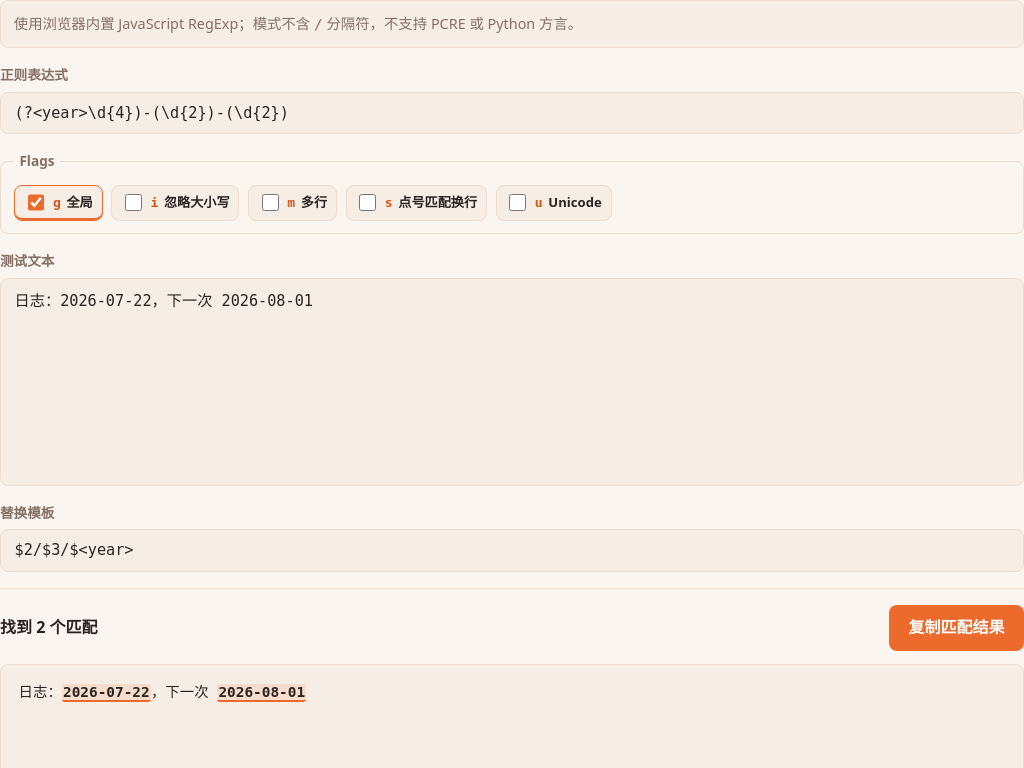
Test case: debounces pattern, flags, and test text changes for 250 ms before starting a cancellable job
The image size is (1024, 768).
Replace the text in the field labelled "正则表达式" with "\\w+" at (512, 113), box [0,92,1023,134]
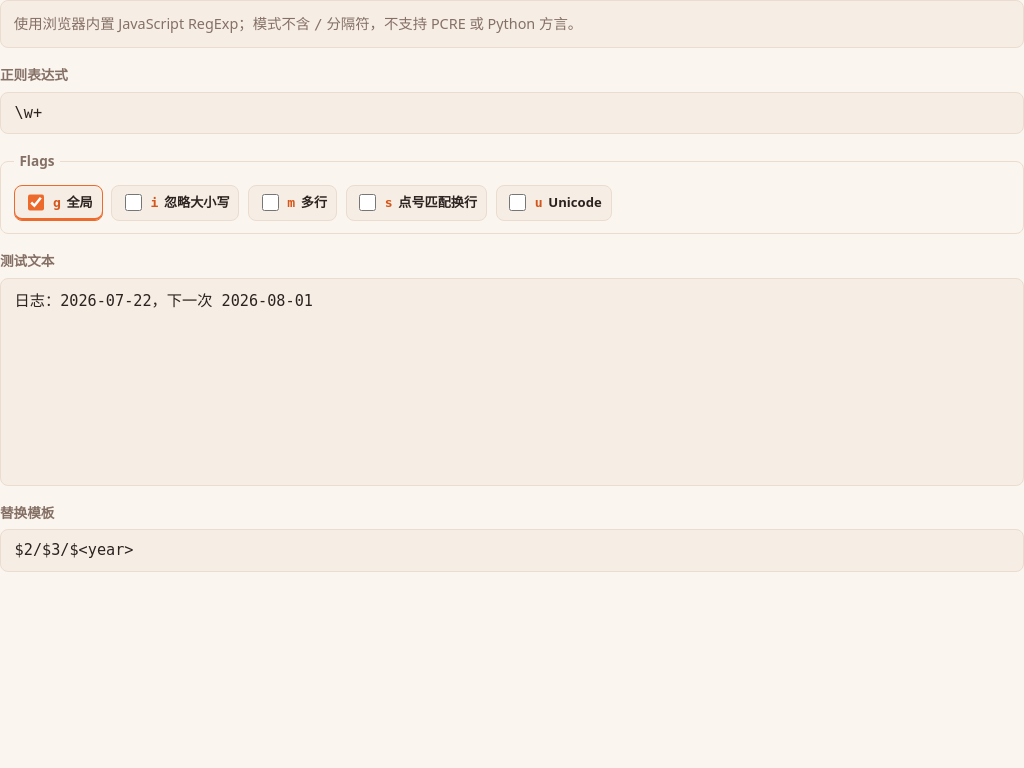
Click the checkbox labelled "g".
click(36, 203)  # box [28,194,44,211]
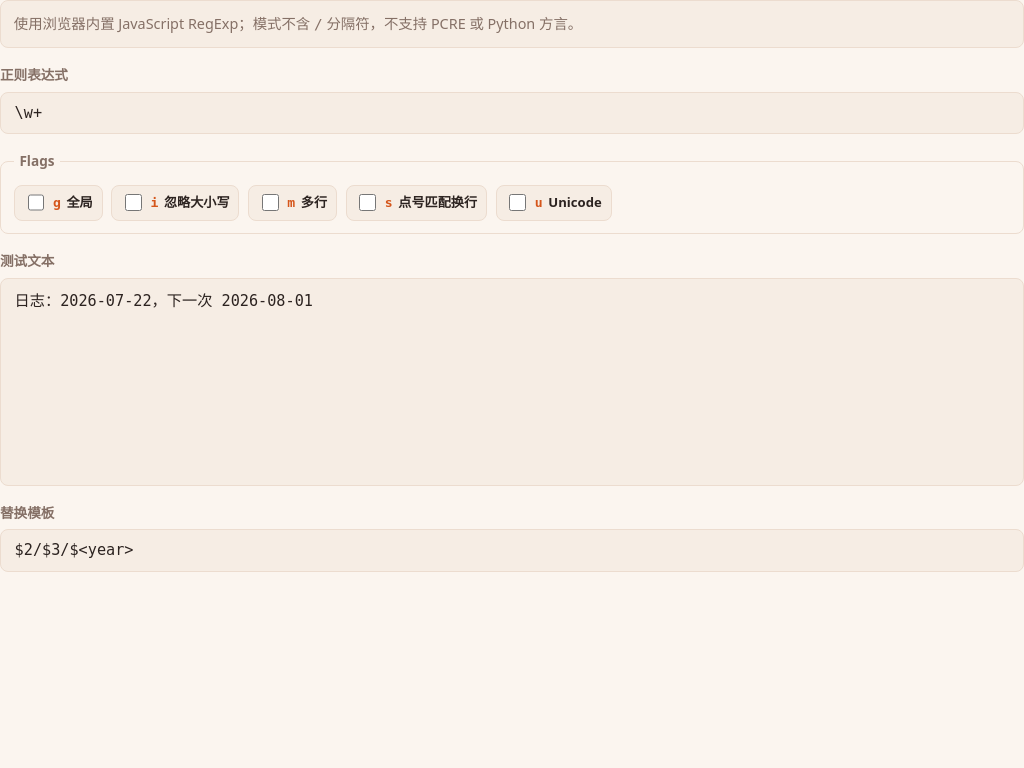
Replace the text in the text box labelled "测试文本" with "one two" at (512, 382), box [0,278,1023,486]
Wait 250 ms
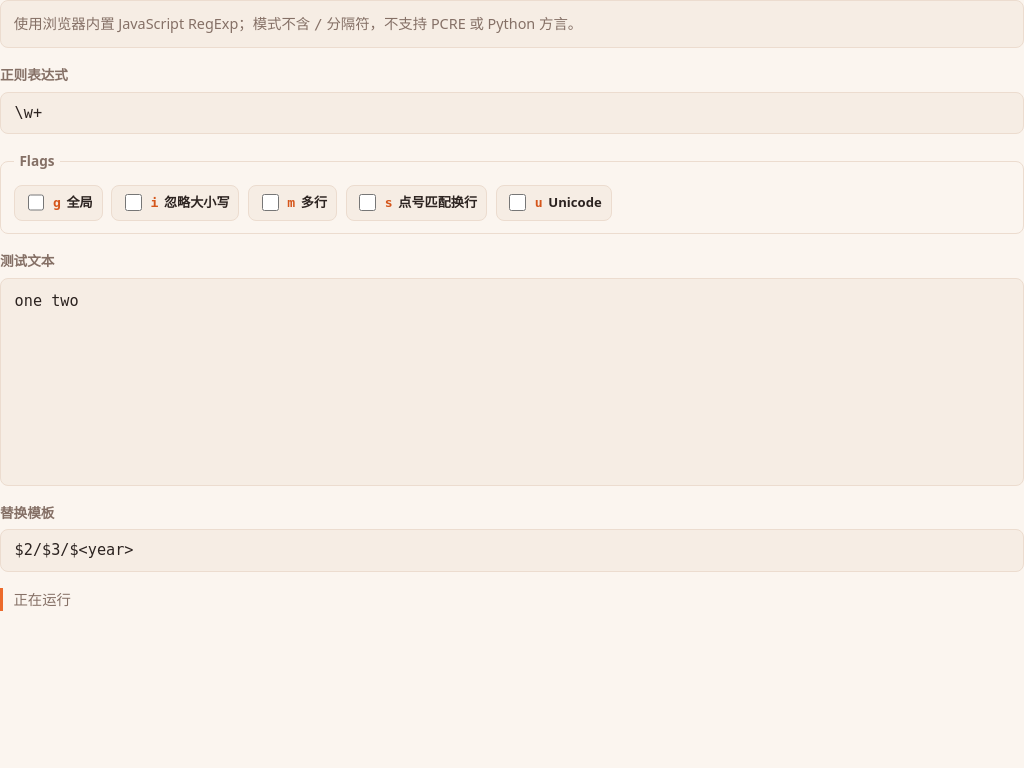
Expected: the text "找到 2 个匹配" is not shown
Expected: the message reads "正在运行", [13,590,71,608]
